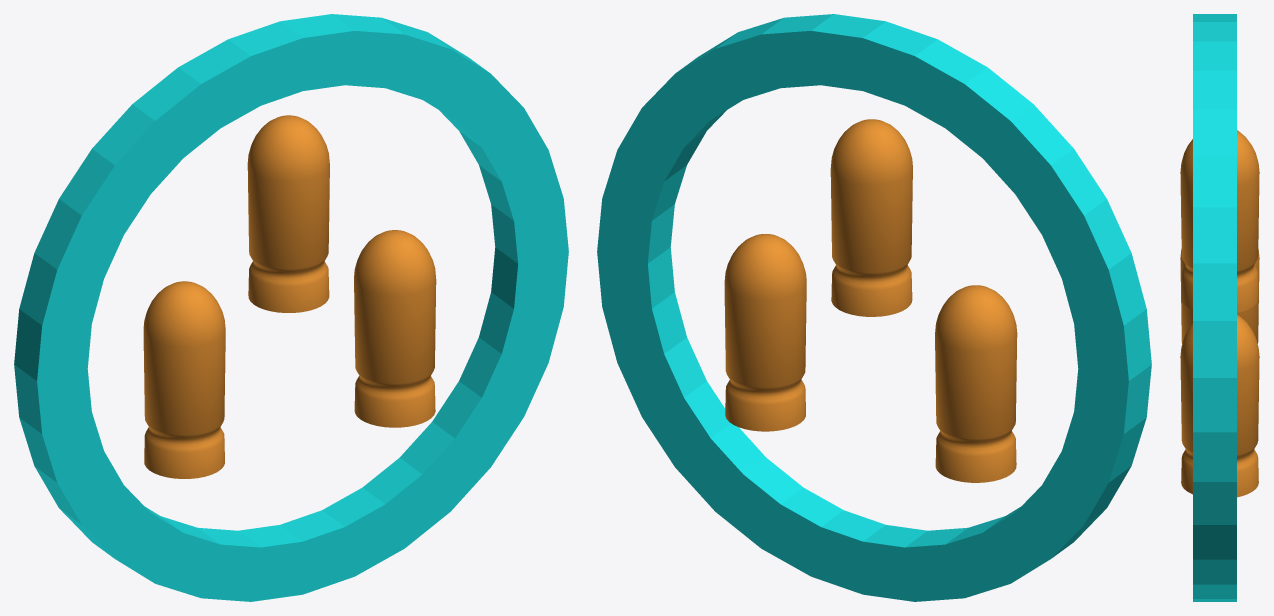
File: RealTripleShotPowerUp.fbx
3 renders of one model, left to right at view 1: azimuth 30°, elevation 25°; view 2: azimuth 150°, elevation 25°; view 3: azimuth 270°, elevation 25°, orthographic. The views are drawn at different scales.
Parts seen in each view (by area): view 1: Circle, Sphere.001, Sphere, Sphere.002; view 2: Circle, Sphere.002, Sphere, Sphere.001; view 3: Circle, Sphere.002, Sphere, Sphere.001.
Part boxes in pixels (<box>): Circle: <box>14,14,568,601</box>; Sphere.001: <box>143,281,225,478</box>; Sphere: <box>247,115,329,312</box>; Sphere.002: <box>354,230,436,427</box>; Circle: <box>597,14,1151,601</box>; Sphere.002: <box>724,234,806,431</box>; Sphere: <box>830,119,912,316</box>; Sphere.001: <box>935,285,1017,482</box>; Circle: <box>1193,14,1236,601</box>; Sphere.002: <box>1180,314,1259,497</box>; Sphere: <box>1180,130,1259,312</box>; Sphere.001: <box>1180,249,1259,343</box>.
Bounding box in the file's own units: 361 × 361 × 48.51.
